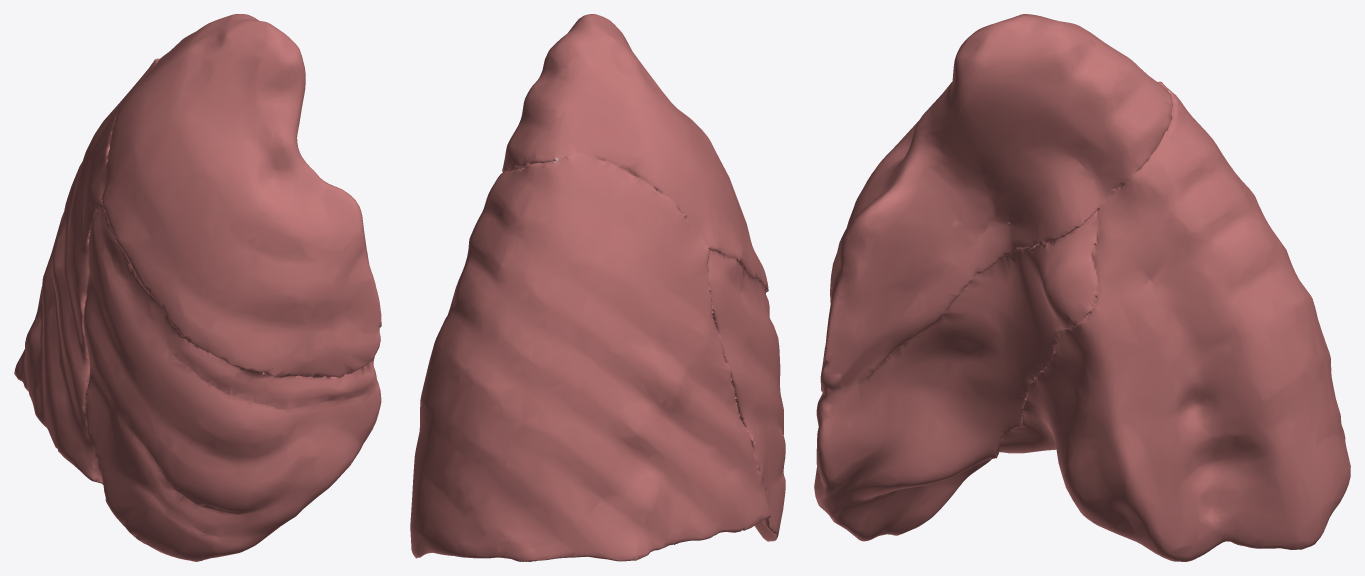
Rendered from lungs_rot_left.obj.
The picture shows the model from 3 angles, left to right: view 1: azimuth 30°, elevation 25°; view 2: azimuth 150°, elevation 25°; view 3: azimuth 270°, elevation 25°; orthographic projection. The views are drawn at different scales.
Bounding box in the file's own units: 1.6 × 2.84 × 2.38.
